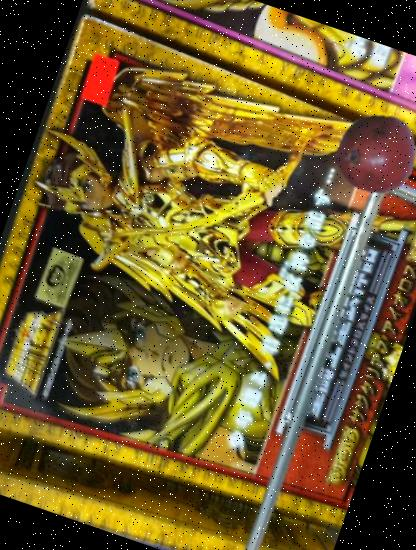Pomegranate: (324, 102, 416, 205)
